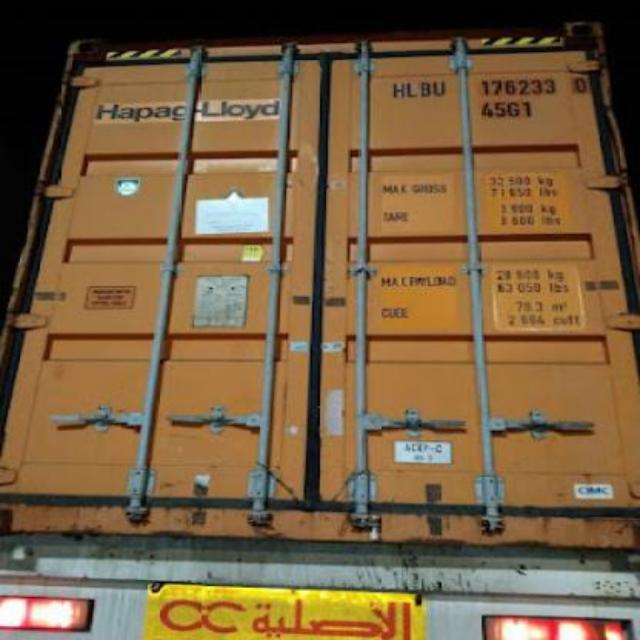0: (570, 74, 588, 96)
1: (478, 74, 490, 96)
2: (518, 75, 530, 98)
3: (528, 74, 542, 96), (542, 74, 554, 96)
6: (504, 76, 518, 96)
7: (491, 75, 504, 98)
B: (418, 70, 430, 100)
H: (391, 80, 404, 100)
L: (404, 76, 416, 100)
U: (432, 78, 446, 98)
